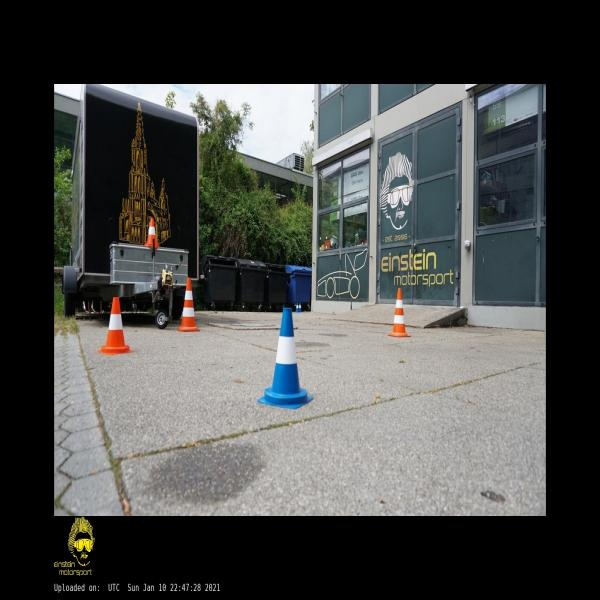blue_cone: (257, 307, 313, 409), (298, 302, 301, 312), (295, 302, 298, 312)
large_orange_cone: (176, 278, 200, 330), (388, 288, 411, 337)
orange_cone: (98, 297, 134, 354), (144, 218, 159, 248)
